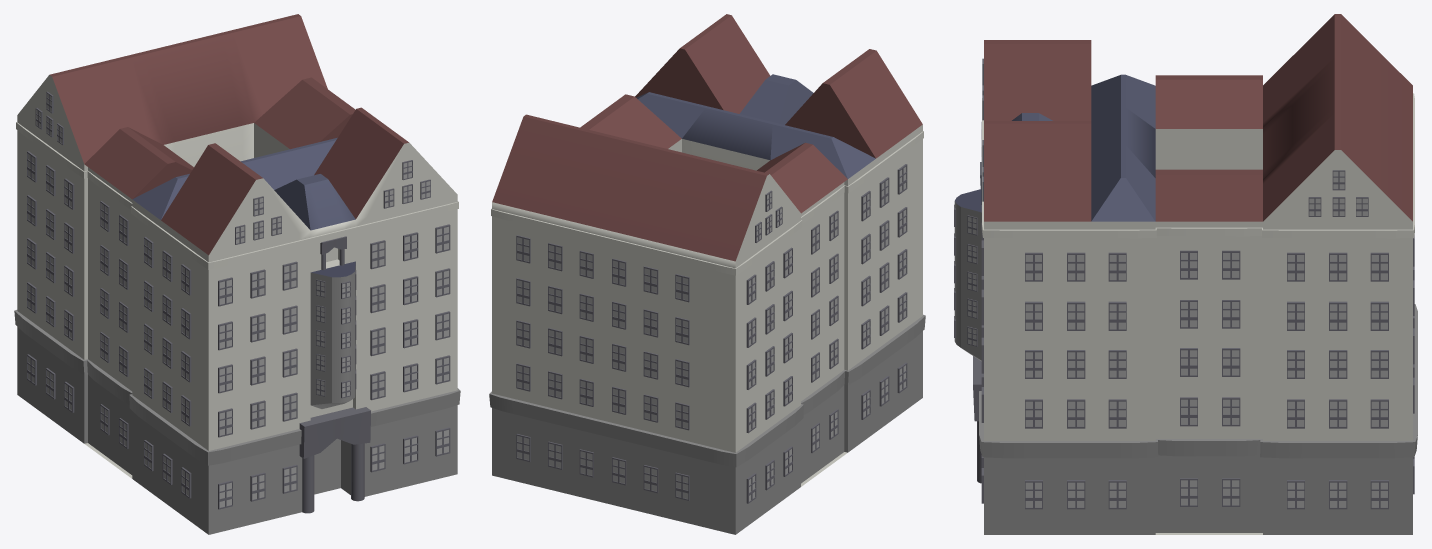
File: Munkbroleden Section 2.fbx
3 renders of one model, left to right at view 1: azimuth 30°, elevation 25°; view 2: azimuth 150°, elevation 25°; view 3: azimuth 270°, elevation 25°, orthographic. The views are drawn at different scales.
Parts seen in each view (by area): view 1: pCylinder6; view 2: pCylinder6; view 3: pCylinder6.
Part boxes in pixels (x1,y1,x2,y2): pCylinder6: (14, 14, 460, 534); pCylinder6: (489, 14, 925, 534); pCylinder6: (954, 14, 1417, 534).
Bounding box in the file's own units: 286 × 366 × 399.
